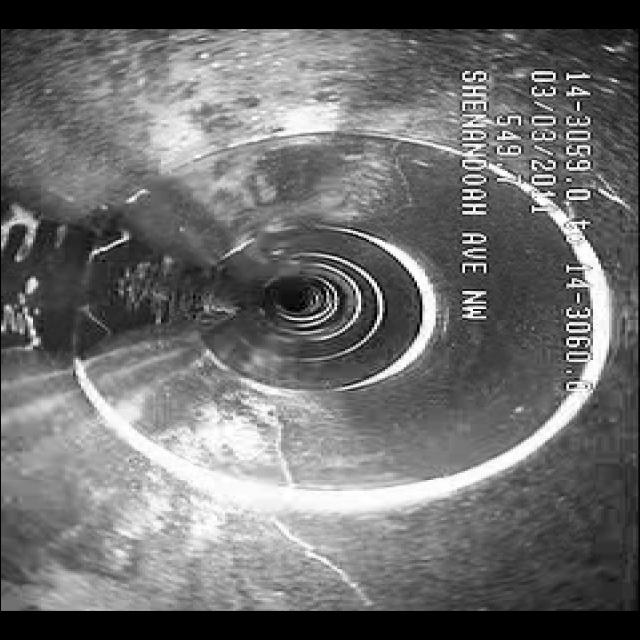Crack: (238, 412, 366, 560)
